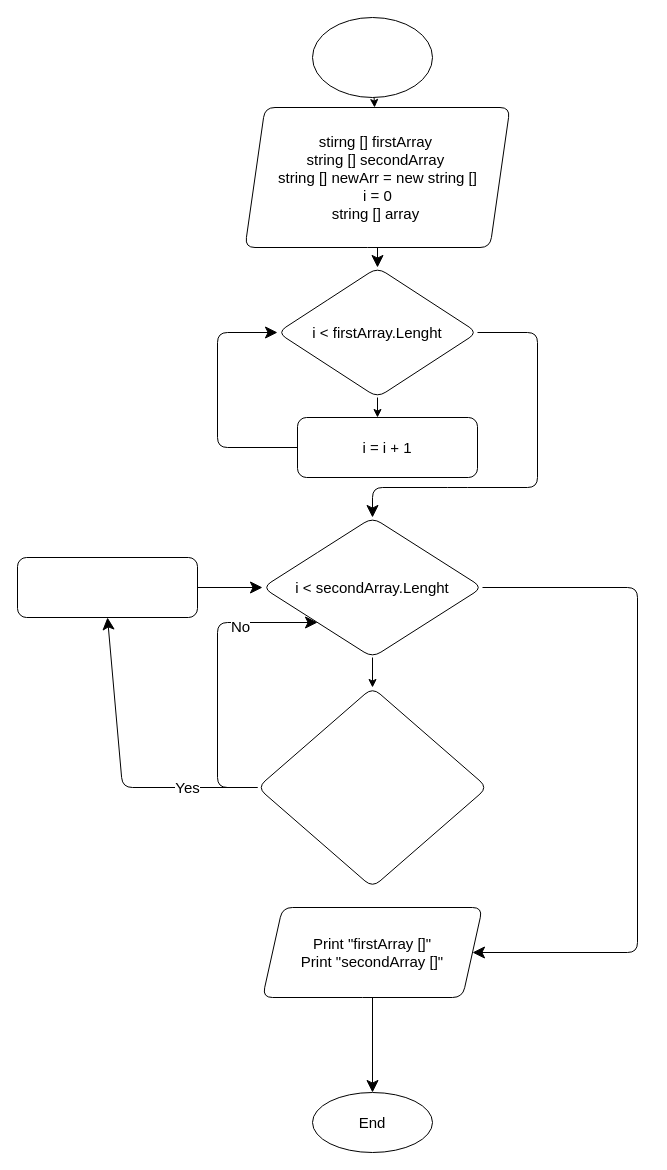
This 667x1170 diagram has some shape labels left out. Each missing label, with the centre of its shape:
"newArr[] = secondArray[]" goes at point (107, 587).
"secondArray.Lenght <= 3" goes at point (372, 787).
"Start" goes at point (372, 57).
